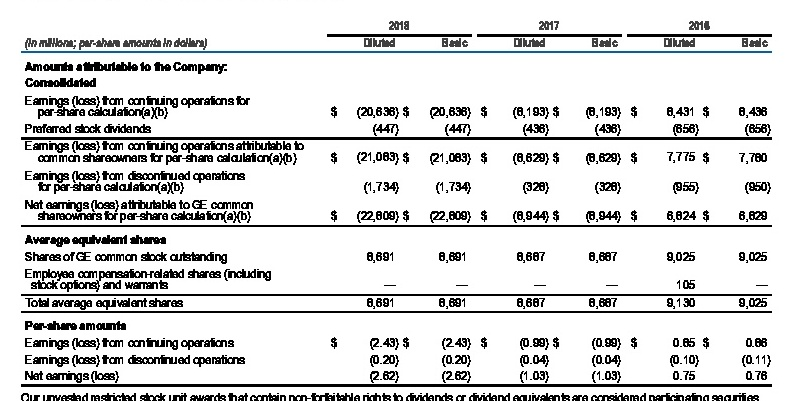table: (0, 0, 791, 401)
